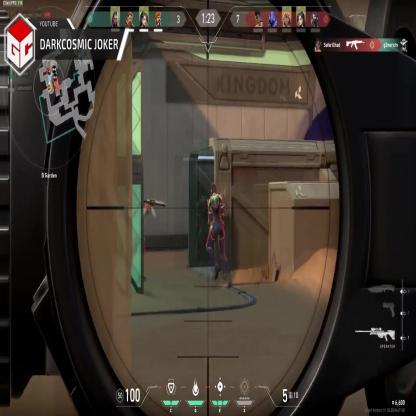enemy: (205, 185, 230, 285), (129, 188, 150, 288)
enemy_head: (131, 188, 144, 204), (209, 183, 217, 194)
